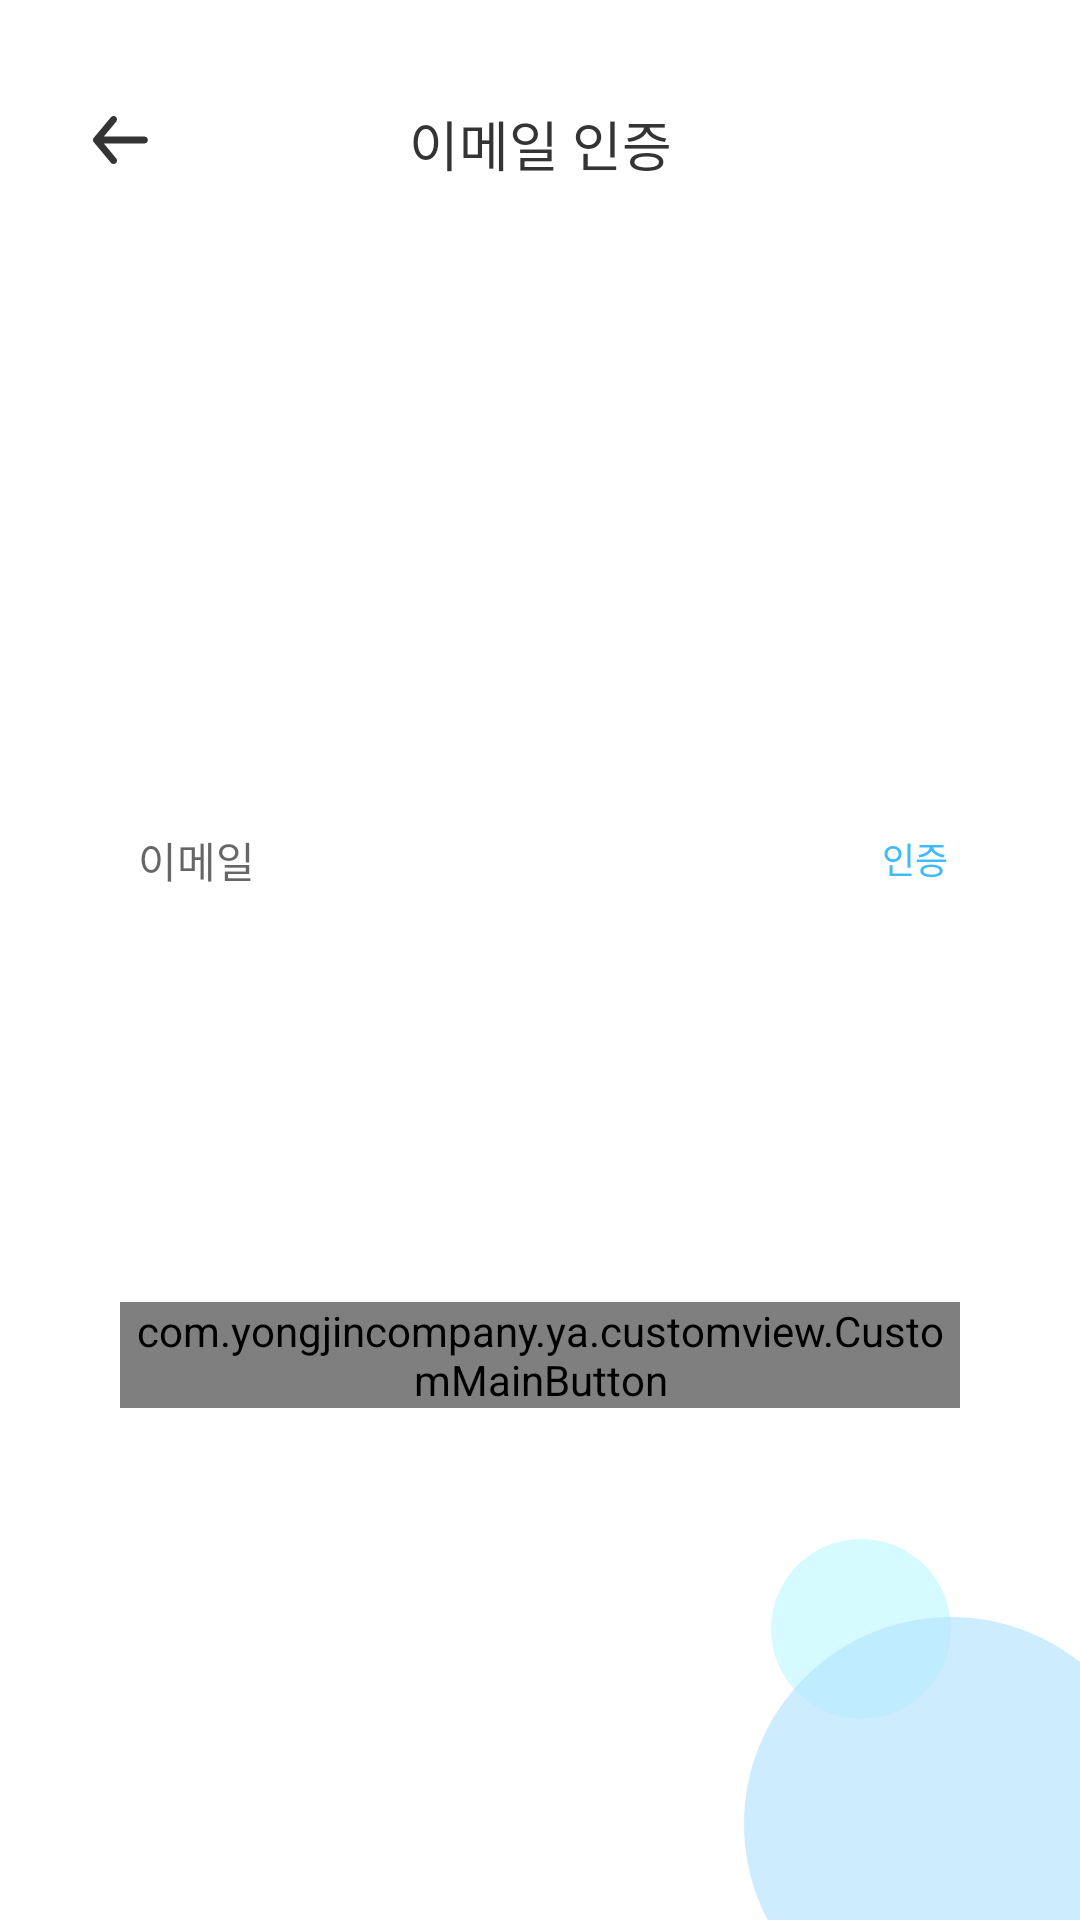

Icons on this 1080*1920 Android screen, each with its box as (x1, y1, x2, y2):
back: (93, 116, 148, 164)
